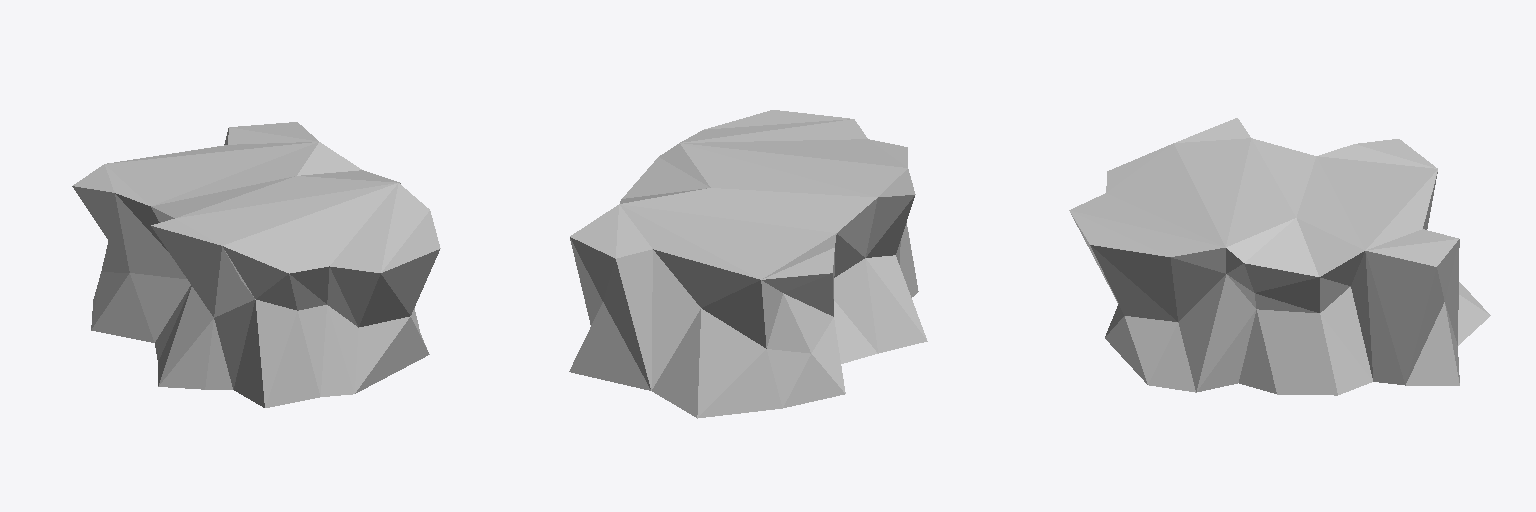
The model's file is rock_003_LOD3.obj.
3 views of the same model, side by side, from view 1: azimuth 30°, elevation 25°; view 2: azimuth 150°, elevation 25°; view 3: azimuth 270°, elevation 25° (orthographic).
Visible parts, largest first — view 1: rock_003_LOD3 rock_003; view 2: rock_003_LOD3 rock_003; view 3: rock_003_LOD3 rock_003.
Boxes of the visible parts, <box> form: rock_003_LOD3 rock_003: <box>72,122,440,407</box>; rock_003_LOD3 rock_003: <box>569,110,927,418</box>; rock_003_LOD3 rock_003: <box>1069,118,1490,395</box>.
Size of the model in its own units: 1288 by 734 by 1829.